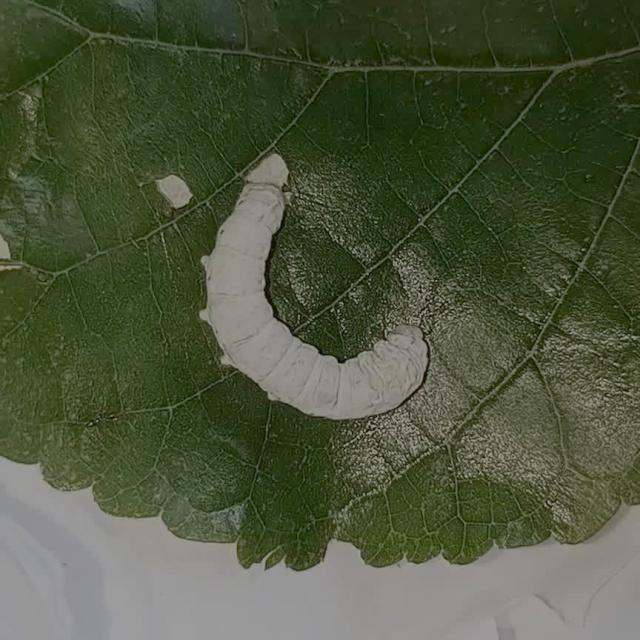Healthy: (194, 159, 442, 437)
